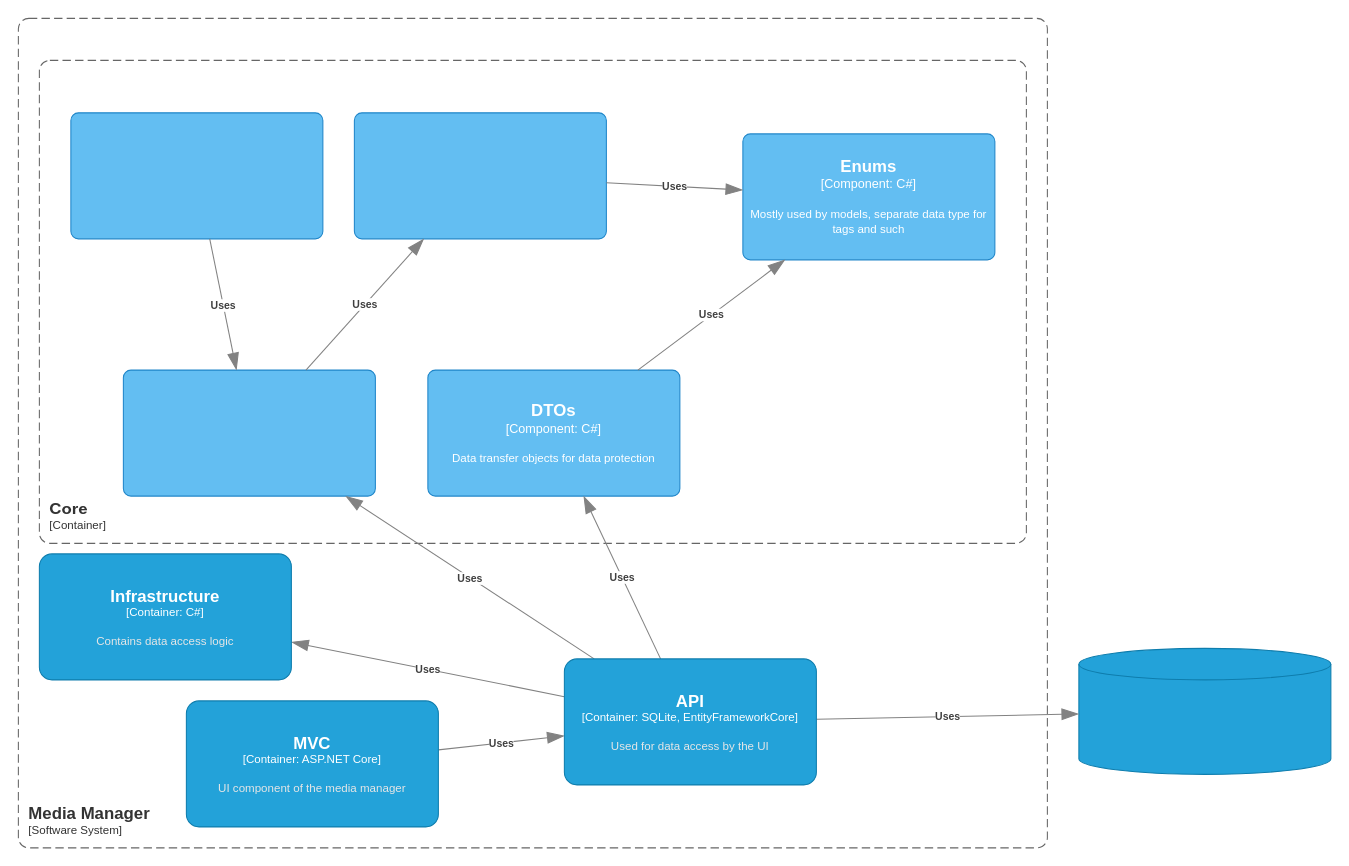
Image size: 1349x866. Some labels were removed from this diagram. Here are the shapes that lost their labels. From the top down, the centre of each, then its label:
At point (196, 175): "Logic [Component: C#] Business logic classes".
At point (479, 175): "Models [Component: C#] Primary objects used by classes/logic".
At point (248, 432): "Interfaces [Component: C#] They're the interfaces".
At point (1204, 710): "Database [Container: Azure or SQLite] Database for all data".
